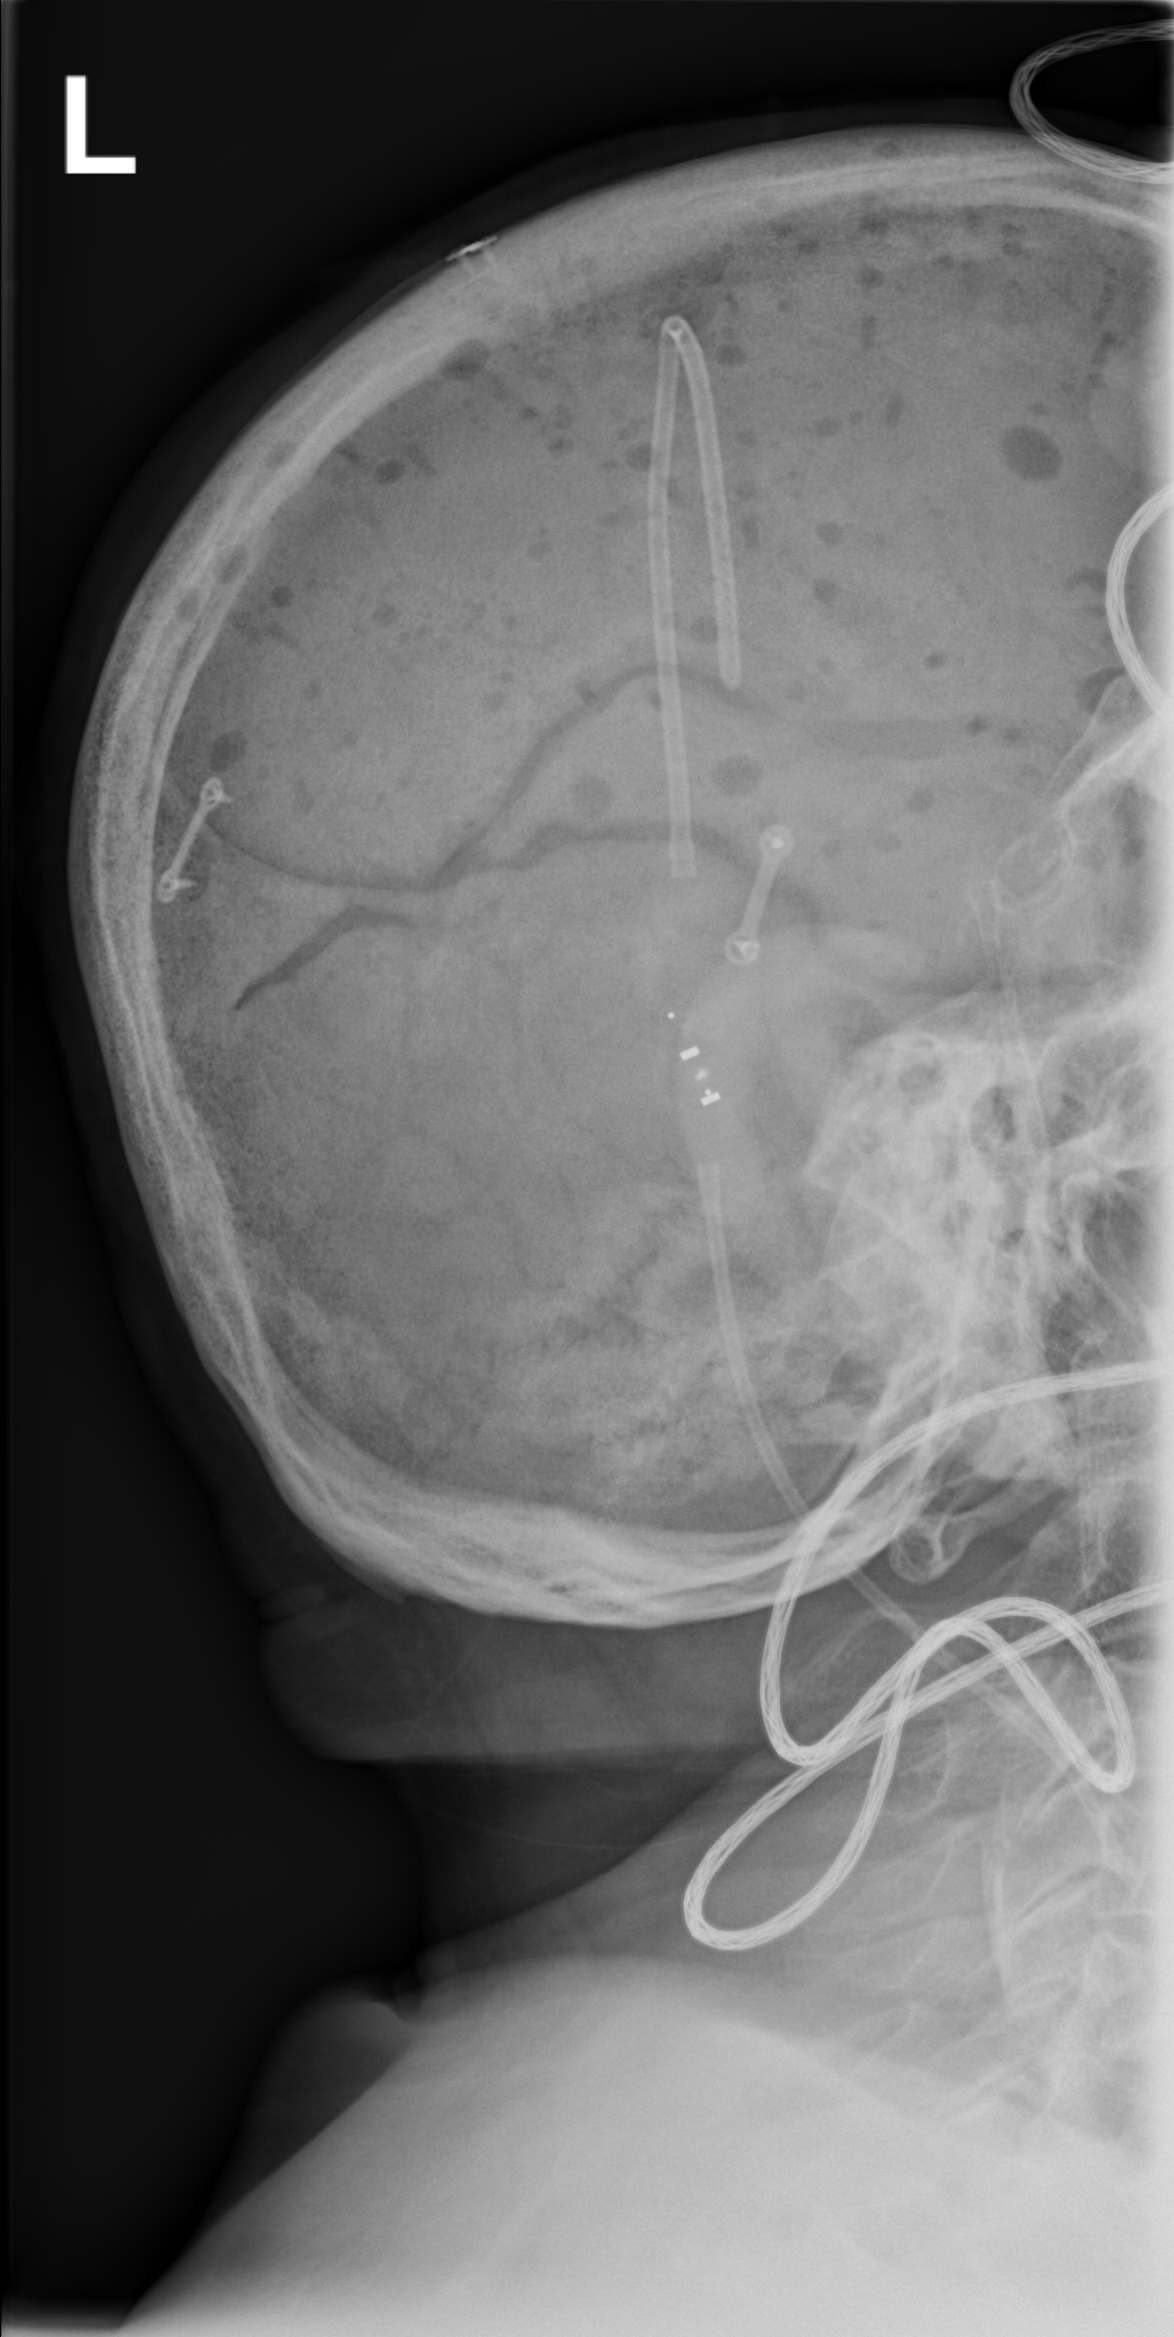Codman Certas: (633, 990, 765, 1139)
